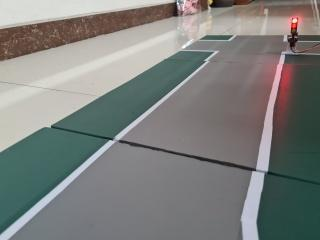red: (284, 13, 305, 48)
